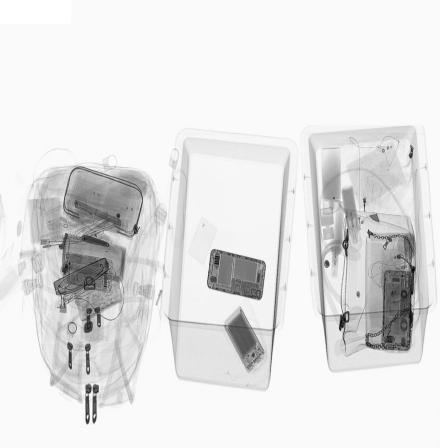Powerbank: (222, 305, 268, 376)
